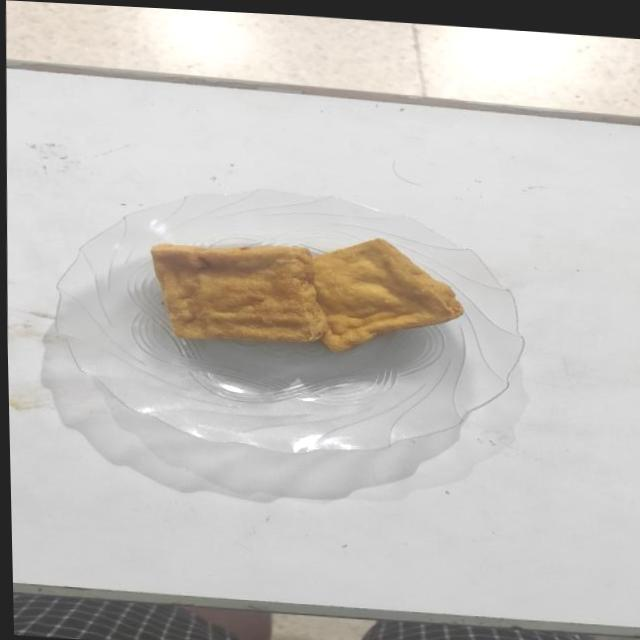tahu_goreng: (150, 244, 328, 342), (312, 238, 462, 351)
